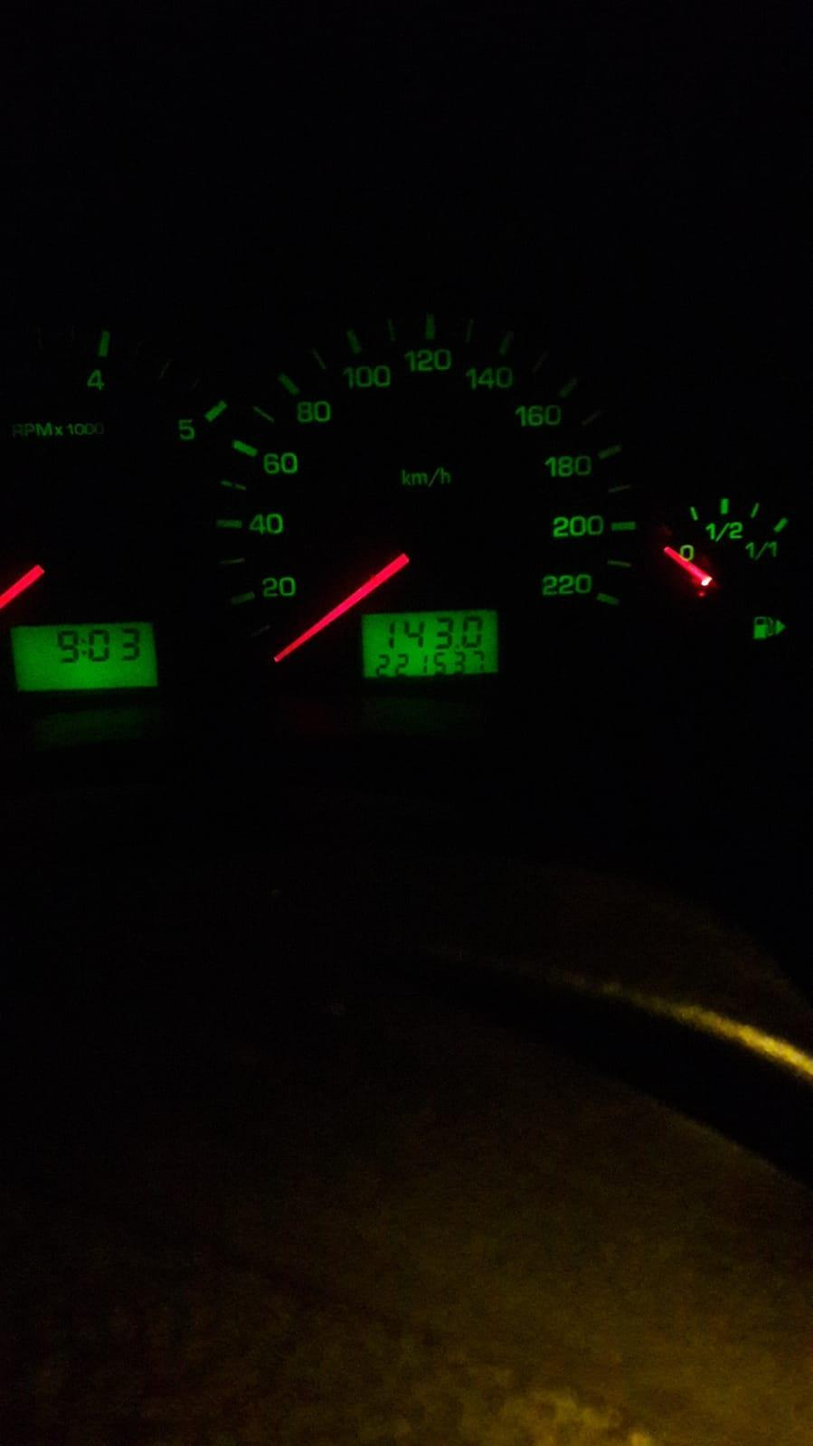-: (454, 644, 458, 648)
0: (461, 614, 482, 647)
1: (387, 619, 395, 648), (421, 654, 428, 674)
2: (375, 653, 390, 677), (394, 652, 408, 676)
3: (434, 616, 453, 648), (452, 650, 465, 675)
4: (403, 620, 424, 647)
5: (432, 651, 447, 675)
7: (471, 649, 485, 672)
odometer: (359, 608, 501, 679)
